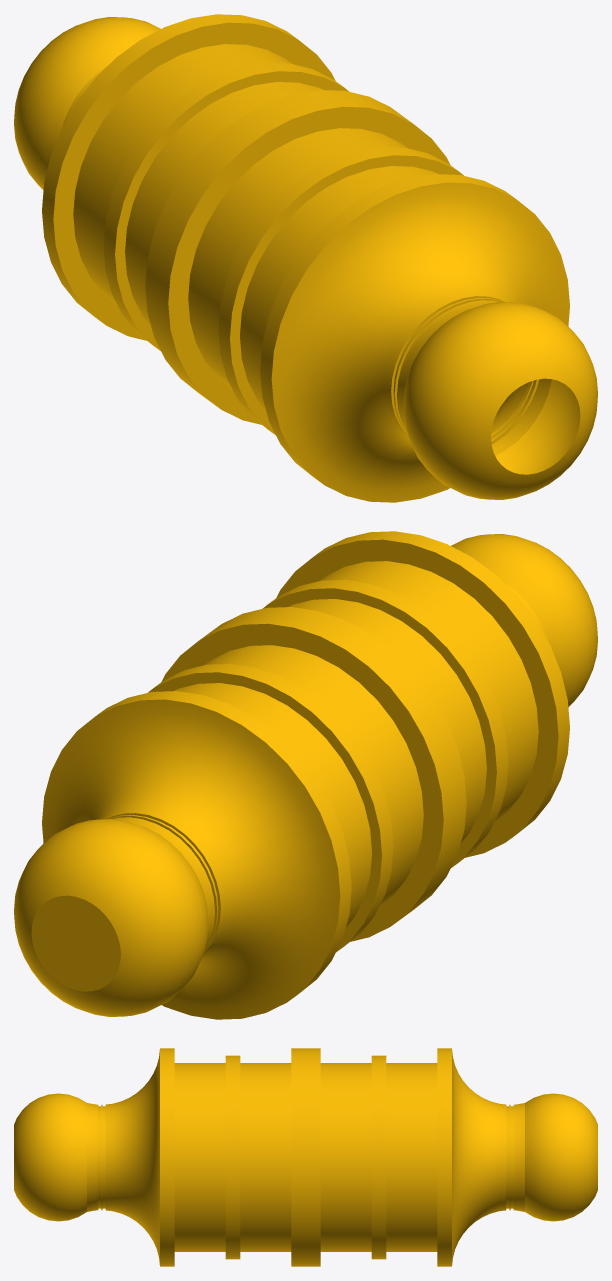
The model's file is SliderCloud.fbx.
The picture shows the model from 3 angles, top to bottom: view 1: azimuth 30°, elevation 25°; view 2: azimuth 150°, elevation 25°; view 3: azimuth 270°, elevation 25°; orthographic projection. The views are drawn at different scales.
Visible parts, largest first — view 1: Group1; view 2: Group1; view 3: Group1.
Part boxes in pixels (<box>): Group1: <box>14,14,597,502</box>; Group1: <box>14,531,597,1019</box>; Group1: <box>14,1048,597,1266</box>.
Size of the model in its own units: 15 by 15 by 40.
